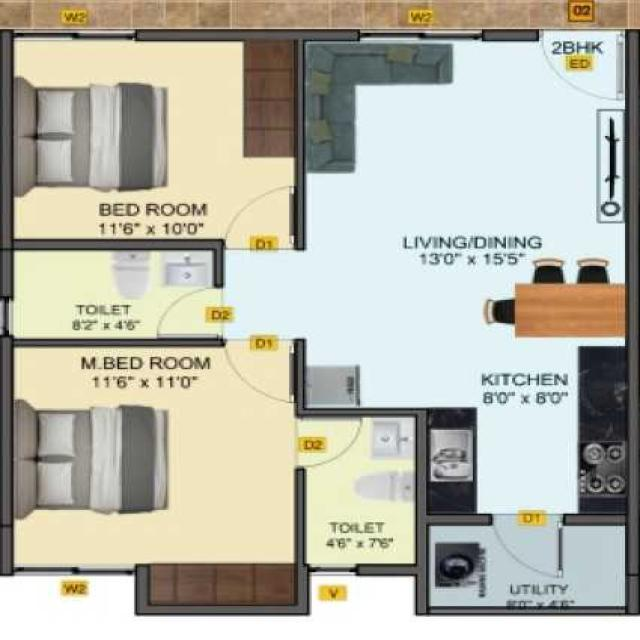Bedroom: (14, 38, 295, 242)
Bedroom with Toilet: (9, 342, 421, 568)
Dining: (477, 258, 630, 340)
Enterance-Foyer: (538, 29, 625, 104)
Kitchen: (424, 347, 628, 515)
Living: (304, 33, 624, 233)
Toilet: (13, 250, 214, 338), (304, 417, 416, 564)
Utility: (429, 525, 626, 608)
